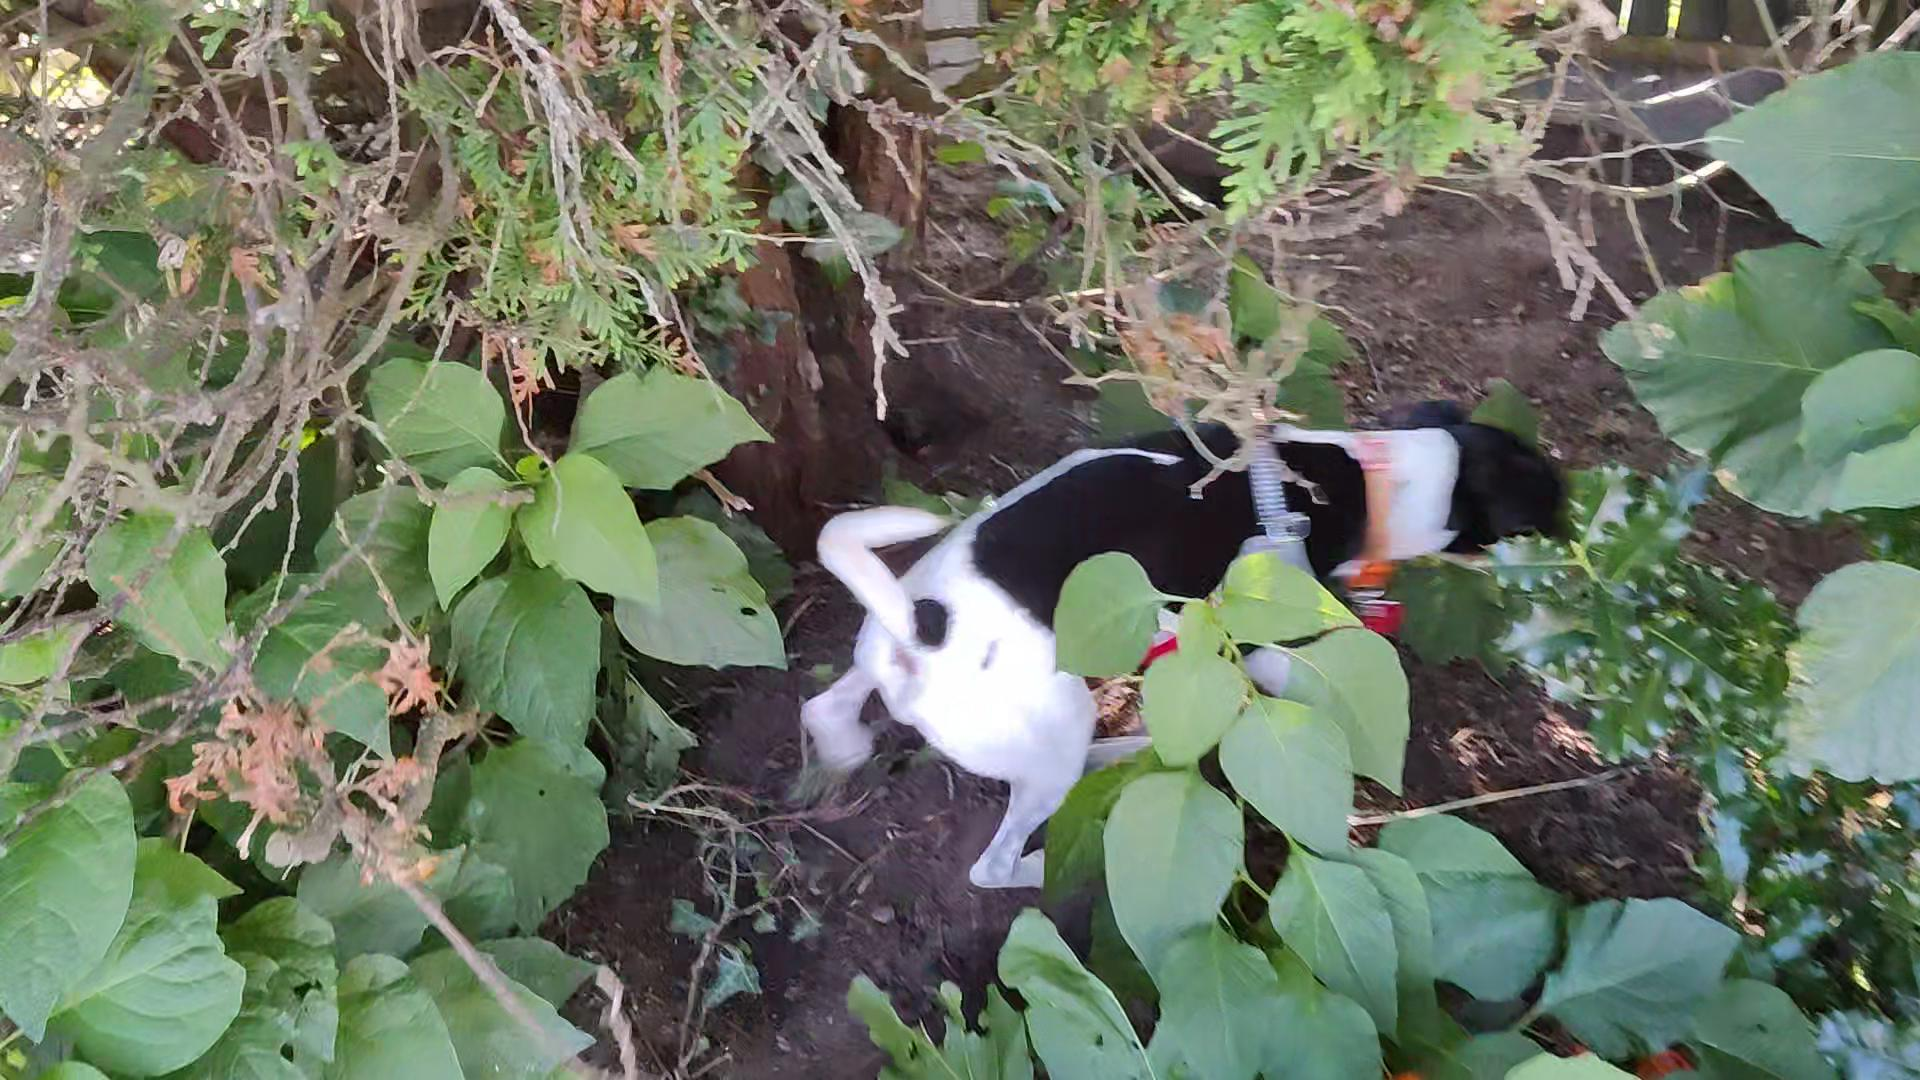Dog: (773, 347, 1590, 902)
